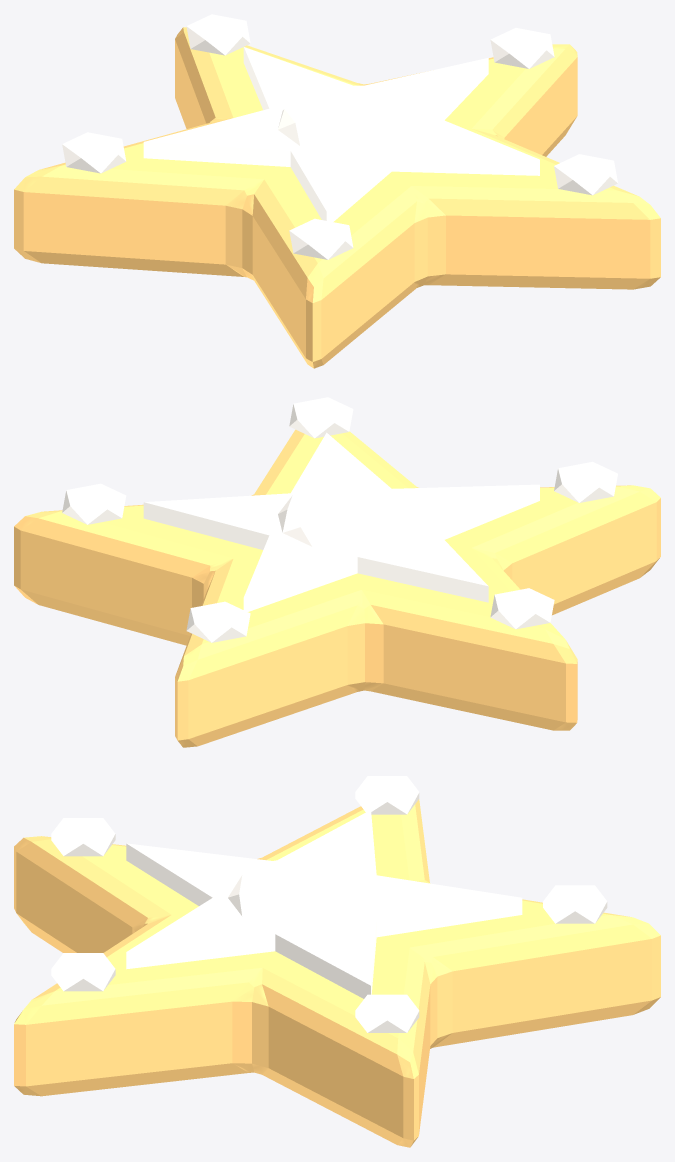
File: xmas_gingerbread_star.glb
3 renders of one model, top to bottom at view 1: azimuth 30°, elevation 25°; view 2: azimuth 150°, elevation 25°; view 3: azimuth 270°, elevation 25°, orthographic. The views are drawn at different scales.
Parts seen in each view (by area): view 1: GingerbreadStar; view 2: GingerbreadStar; view 3: GingerbreadStar.
Boxes of the visible parts, x1=… form: GingerbreadStar: x1=14, y1=14, x2=660, y2=368; GingerbreadStar: x1=14, y1=397, x2=660, y2=747; GingerbreadStar: x1=14, y1=776, x2=660, y2=1147.
Bounding box in the file's own units: 1.8 × 0.43 × 1.71.
